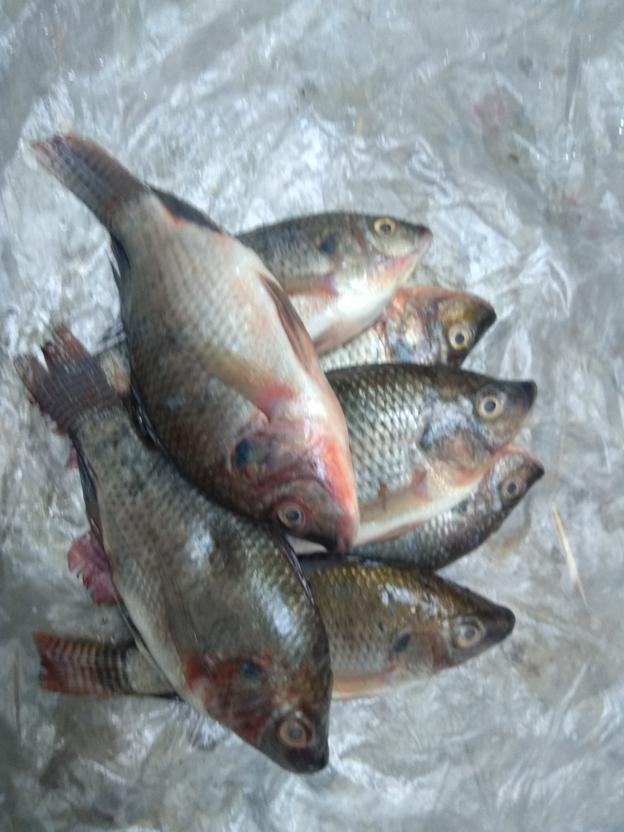Fish head: (222, 420, 364, 556), (201, 653, 334, 775), (418, 364, 541, 488), (387, 574, 517, 691), (320, 206, 434, 312), (451, 451, 549, 559), (370, 282, 497, 364)
Fish tail: (10, 319, 121, 431), (31, 132, 156, 226), (34, 631, 132, 701)
